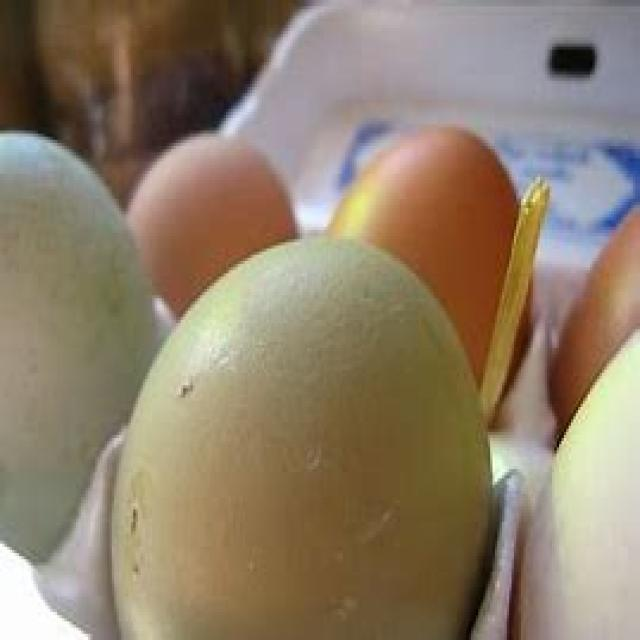Calcium Deposit Egg: (62, 231, 494, 640)
